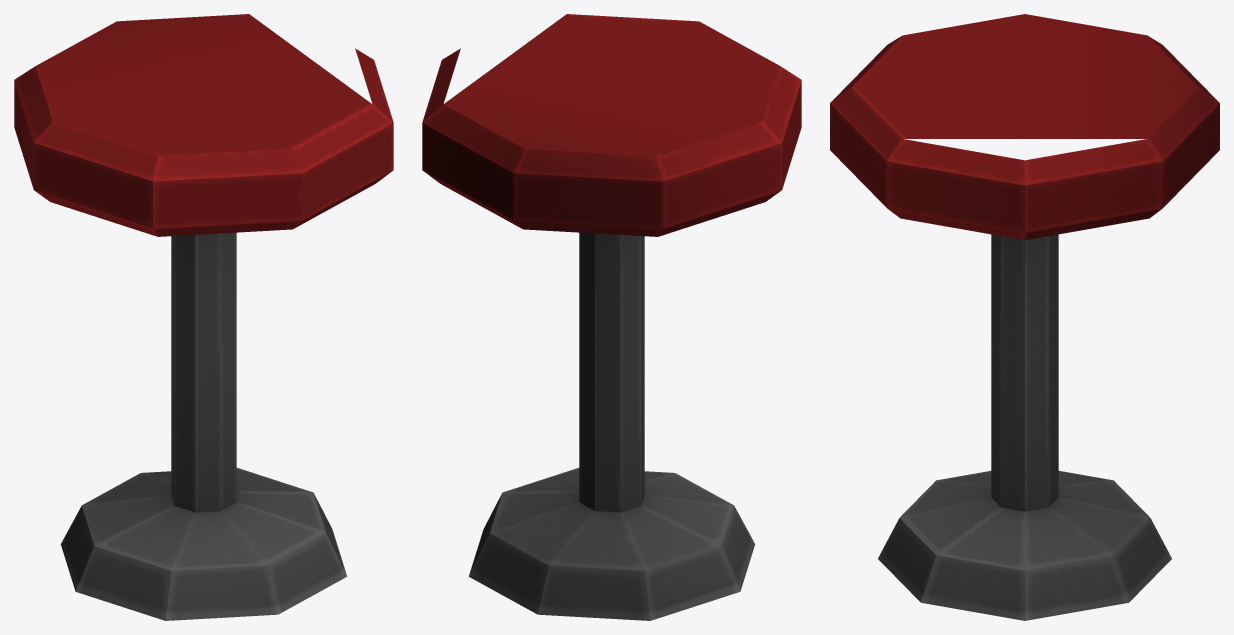
Rendered from bar_mesh.023_lev1.glb.
3 views of the same model, side by side, from view 1: azimuth 30°, elevation 25°; view 2: azimuth 150°, elevation 25°; view 3: azimuth 270°, elevation 25° (orthographic).
Parts seen in each view (by area): view 1: bar_mesh.023_lev1; view 2: bar_mesh.023_lev1; view 3: bar_mesh.023_lev1.
Boxes of the visible parts, x1=… form: bar_mesh.023_lev1: x1=14, y1=14, x2=393, y2=620; bar_mesh.023_lev1: x1=422, y1=14, x2=801, y2=620; bar_mesh.023_lev1: x1=830, y1=14, x2=1219, y2=620.
Bounding box in the file's own units: 1.38 × 1.84 × 1.38.
Materials: 1 (1 with a texture image).
